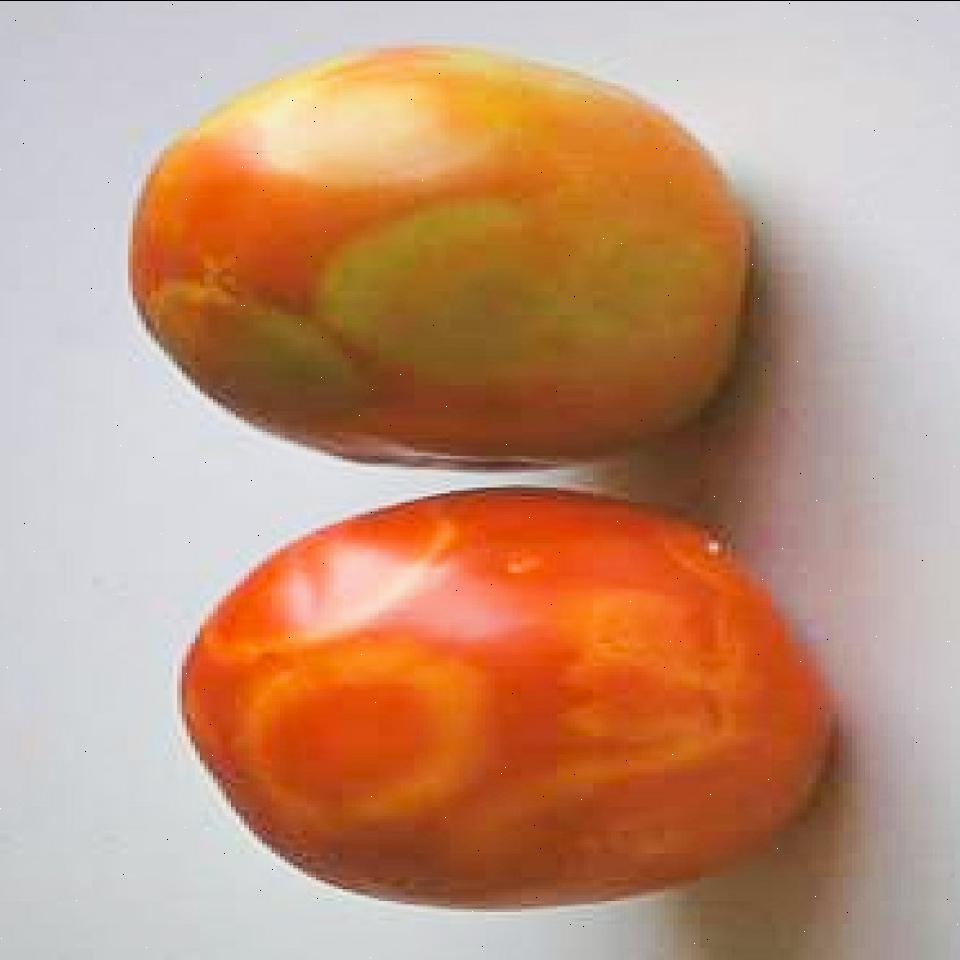Spotted wilt Virus: (174, 486, 839, 910), (123, 44, 759, 470)
